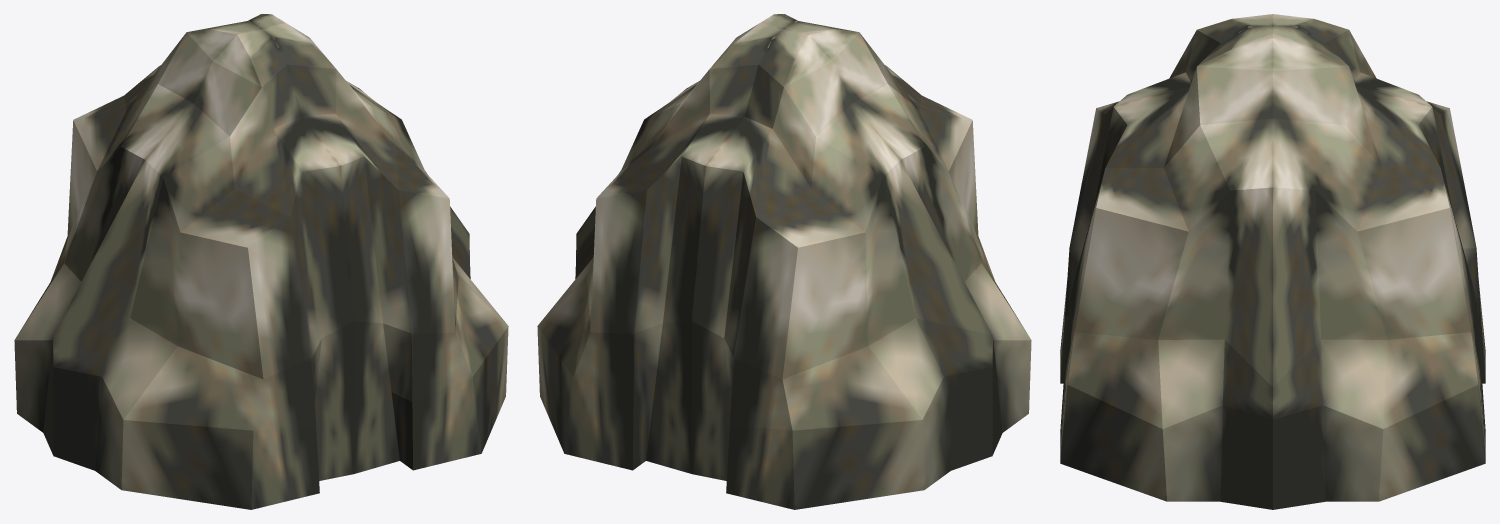
The model's file is Poly_Black_Rock_01.obj.
3 views of the same model, side by side, from view 1: azimuth 30°, elevation 25°; view 2: azimuth 150°, elevation 25°; view 3: azimuth 270°, elevation 25° (orthographic).
Visible parts, largest first — view 1: Cube; view 2: Cube; view 3: Cube.
Part boxes in pixels (<box>): Cube: <box>14,14,508,509</box>; Cube: <box>537,14,1031,509</box>; Cube: <box>1060,14,1485,509</box>.
Bounding box in the file's own units: 0.86 × 0.7457 × 0.752.
Materials: 1 (1 with a texture image).
